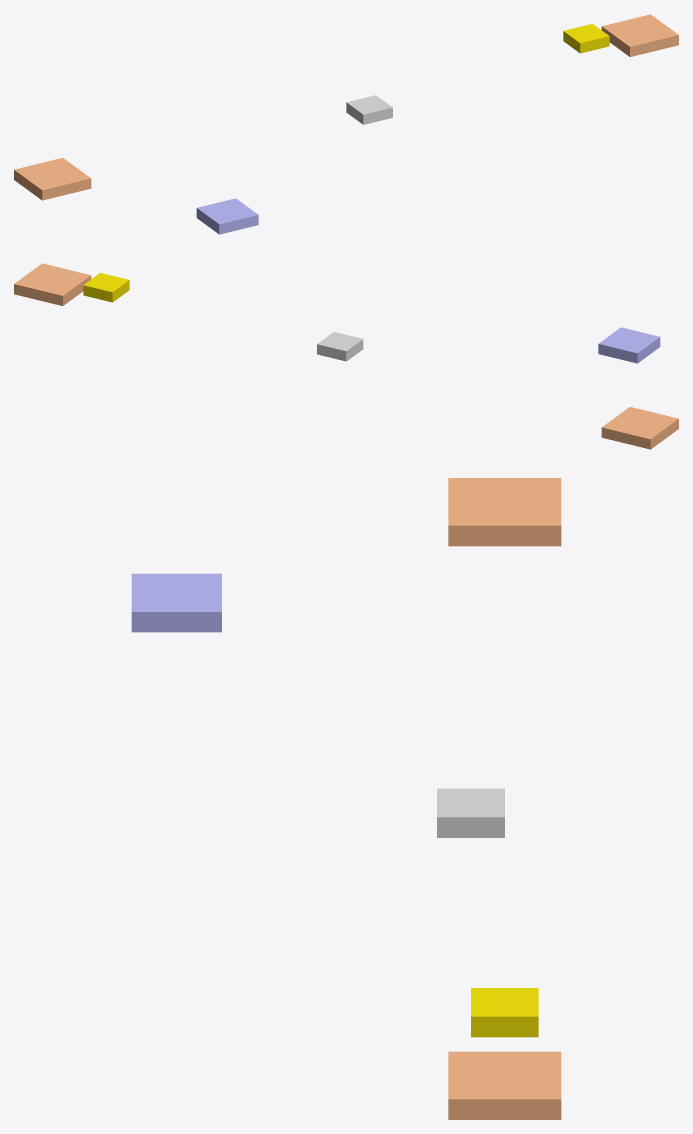
Rendered from board.glb.
3 views of the same model, one above another, from view 1: azimuth 30°, elevation 25°; view 2: azimuth 150°, elevation 25°; view 3: azimuth 270°, elevation 25° (orthographic). The views are drawn at different scales.
Parts seen in each view (by area): view 1: Copper_Net1_Contour0 (×4), Copper_Net1_Contour1; view 2: Copper_Net1_Contour0 (×4), Copper_Net1_Contour1; view 3: Copper_Net1_Contour0 (×4), Copper_Net1_Contour1.
Part boxes in pixels (x1,y1,x2,y2): Copper_Net1_Contour0 (×4): (14, 24, 609, 234); Copper_Net1_Contour1: (601, 14, 678, 56); Copper_Net1_Contour0 (×4): (83, 273, 678, 449); Copper_Net1_Contour1: (14, 263, 91, 305); Copper_Net1_Contour0 (×4): (131, 478, 561, 1037); Copper_Net1_Contour1: (448, 1051, 561, 1119).
Bounding box in the file's own units: 6.5e-05 × 2e-06 × 1.9e-05.
